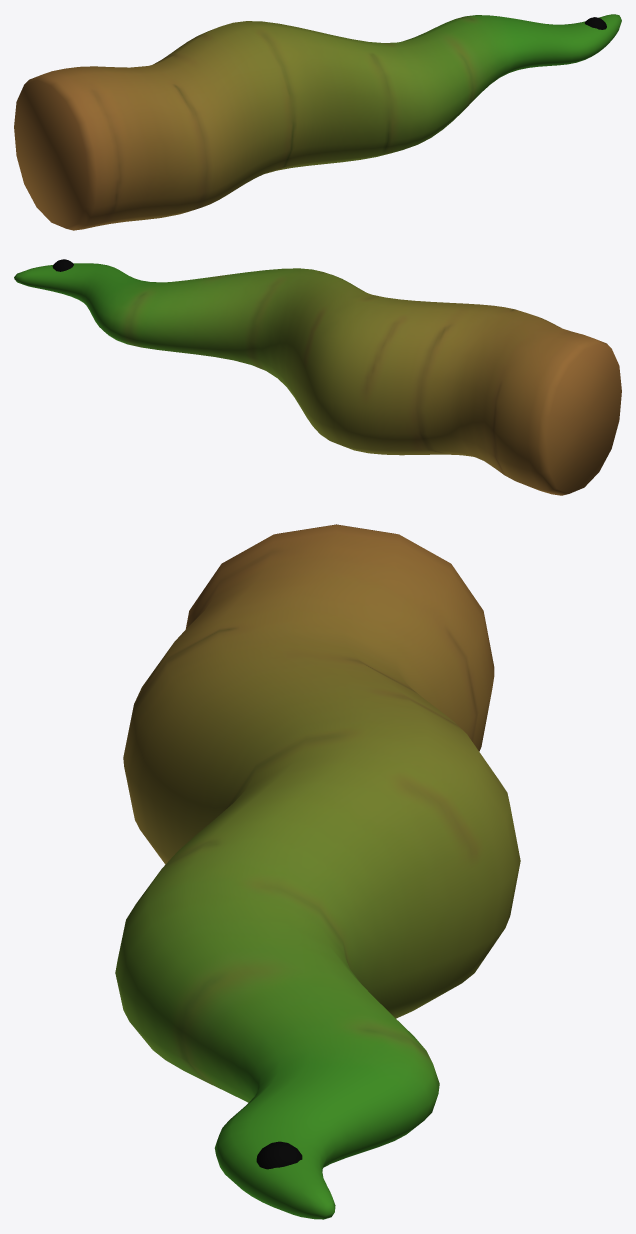
Rendered from RaizDeMedusa.fbx.
3 views of the same model, one above another, from view 1: azimuth 30°, elevation 25°; view 2: azimuth 150°, elevation 25°; view 3: azimuth 270°, elevation 25° (orthographic). The views are drawn at different scales.
Parts seen in each view (by area): view 1: Raiz De Medusa; view 2: Raiz De Medusa; view 3: Raiz De Medusa.
Part boxes in pixels (<box>): Raiz De Medusa: <box>14,14,621,230</box>; Raiz De Medusa: <box>14,259,621,495</box>; Raiz De Medusa: <box>115,524,520,1219</box>.
Size of the model in its own units: 220 by 53.66 by 67.97.
